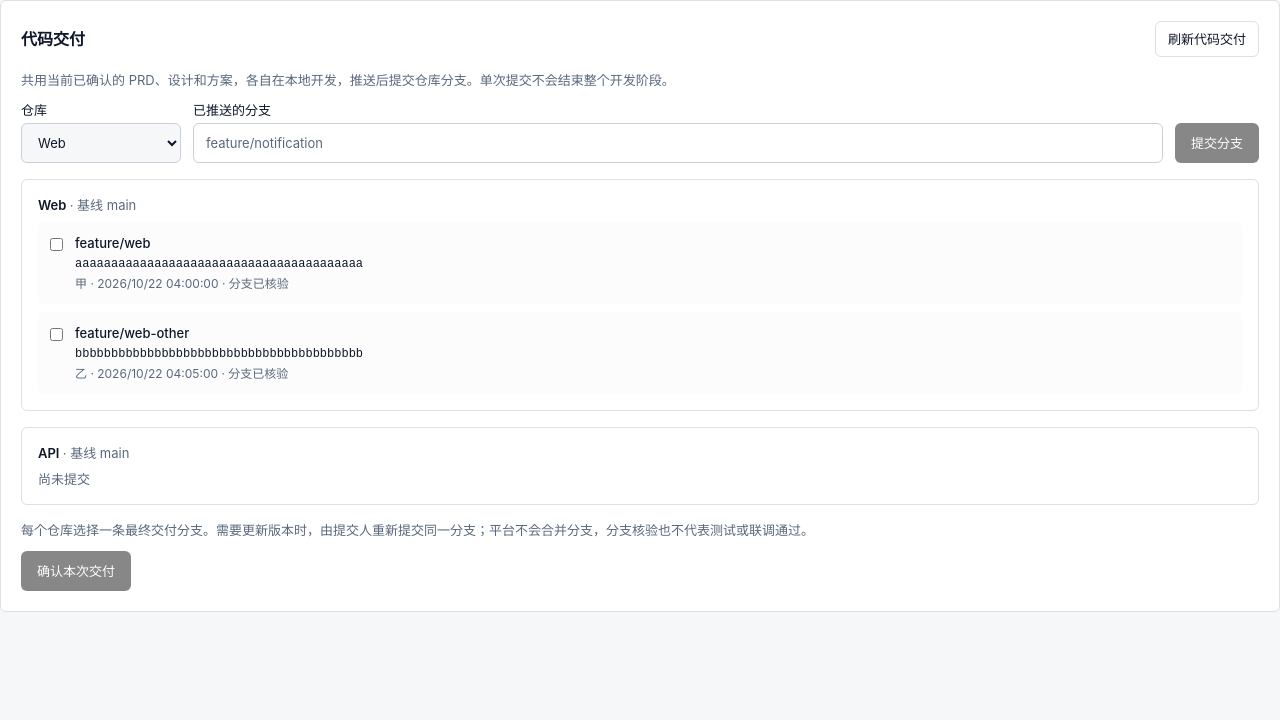
Test: Git确认失败保留选择和分支，提供可恢复提示
Click the checkbox named "纳入本次交付 Web feature/web 甲" at [56, 244], box [50,238,63,251]
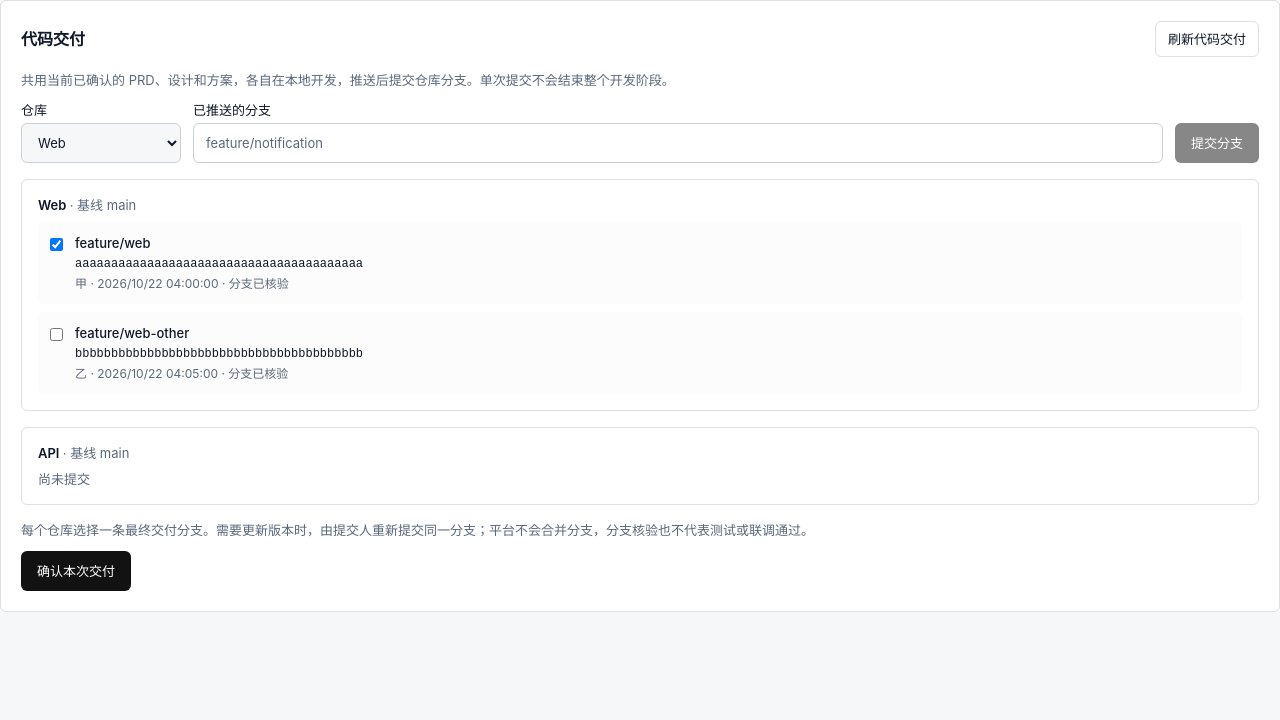
Click the button "确认本次交付" at [76, 571], box [21,551,131,591]
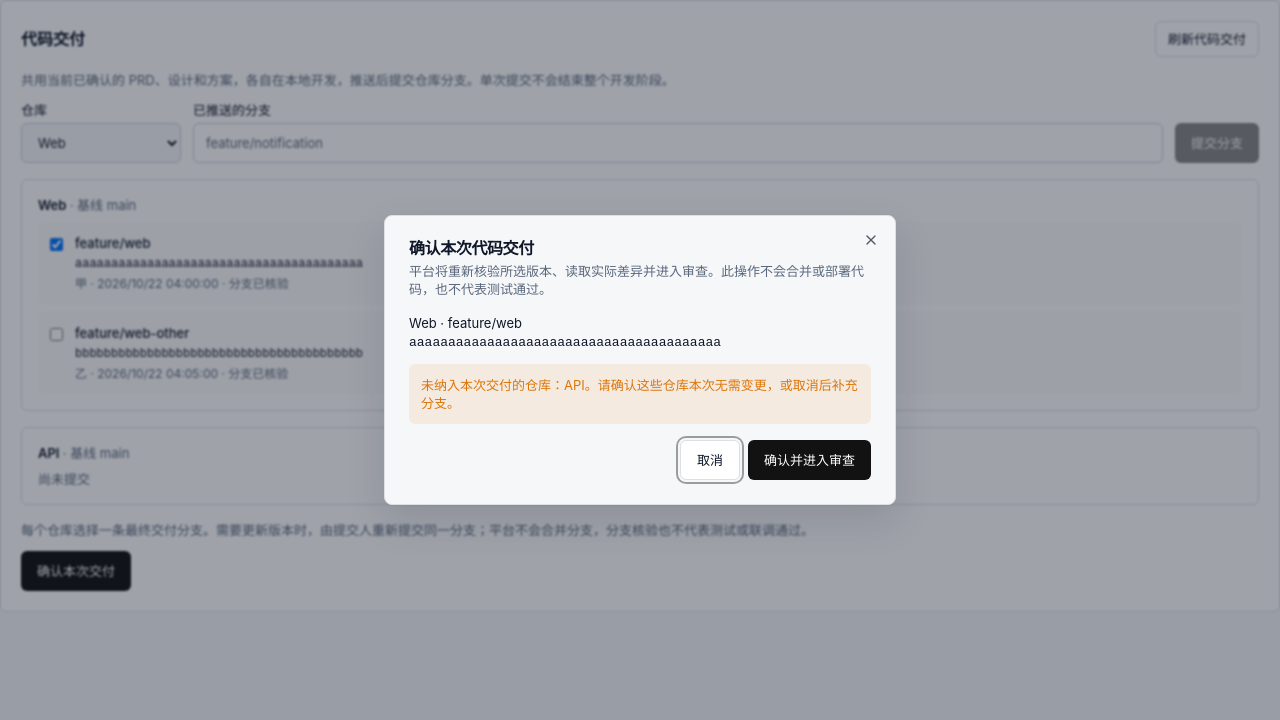
Expected: the button "确认并进入审查" is shown
Click the button "确认并进入审查" at [810, 460], box [748,440,871,480]
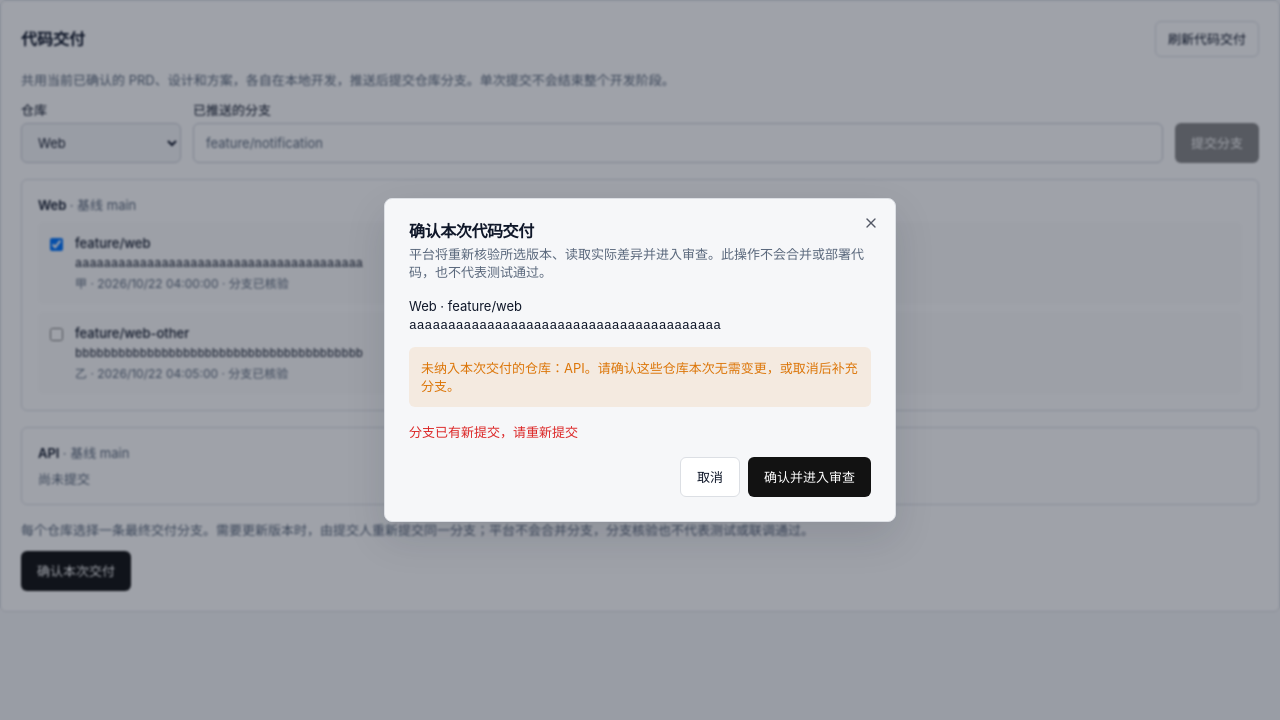
Expected: the text "feature/web" is shown, [75,235,150,251]
Expected: the dialog shows "分支已有新提交", [409,424,578,440]
